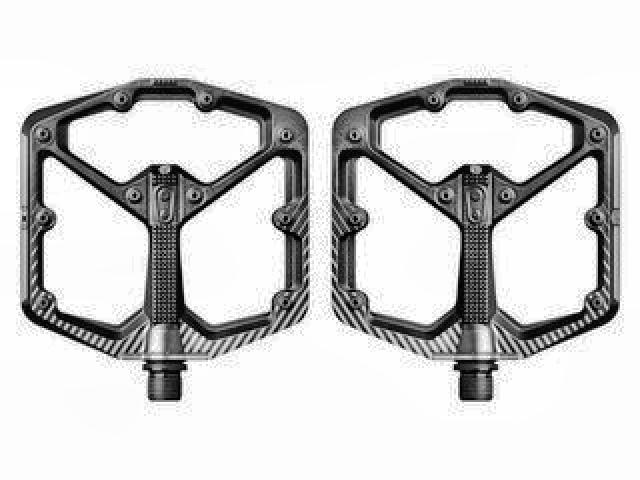pedal: (324, 75, 627, 404), (14, 75, 314, 405)
